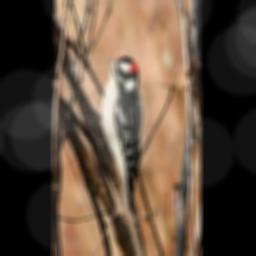Woodpecker: (98, 56, 142, 218)
